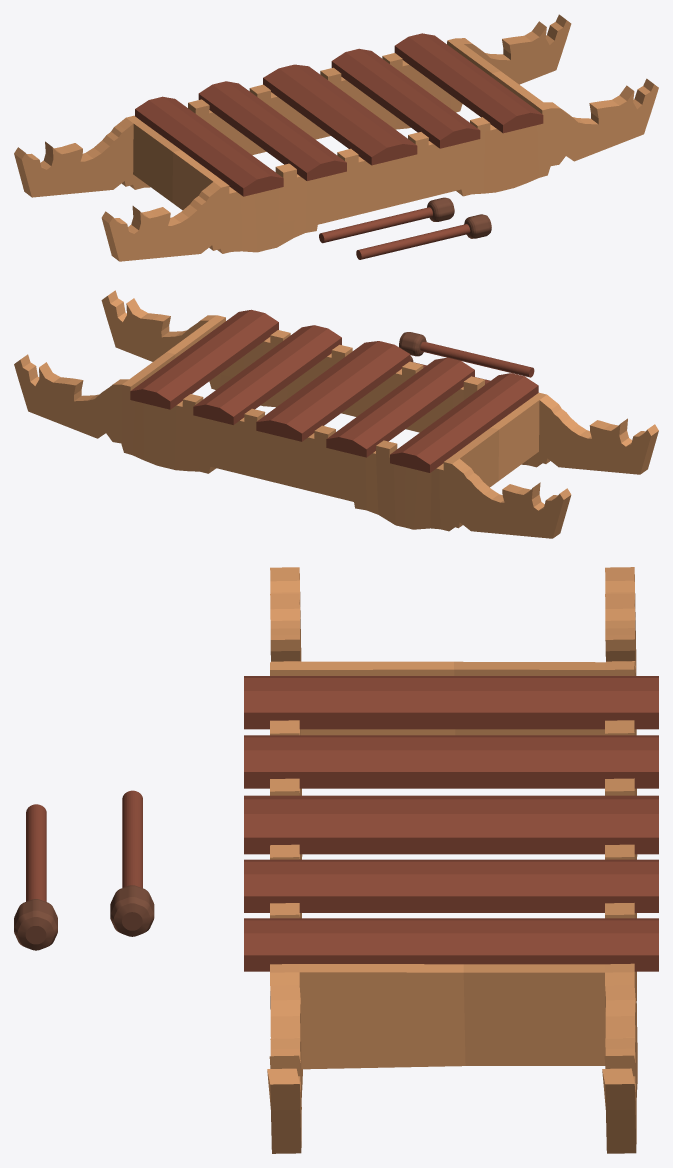
File: alat_musik.glb
The picture shows the model from 3 angles, top to bottom: view 1: azimuth 30°, elevation 25°; view 2: azimuth 150°, elevation 25°; view 3: azimuth 270°, elevation 25°; orthographic projection. The views are drawn at different scales.
Visible parts, largest first — view 1: Plane, Cylinder.001, Cylinder.003; view 2: Plane, Cylinder.003; view 3: Plane, Cylinder.001, Cylinder.003.
Part boxes in pixels (x1,y1,x2,y2): Plane: [14, 14, 658, 261]; Cylinder.001: [319, 197, 454, 243]; Cylinder.003: [356, 214, 491, 259]; Plane: [14, 290, 658, 538]; Cylinder.003: [399, 332, 534, 377]; Plane: [244, 567, 658, 1153]; Cylinder.001: [110, 790, 154, 936]; Cylinder.003: [14, 804, 57, 950].
Bounding box in the file's own units: 14.6 × 2.04 × 7.75.
